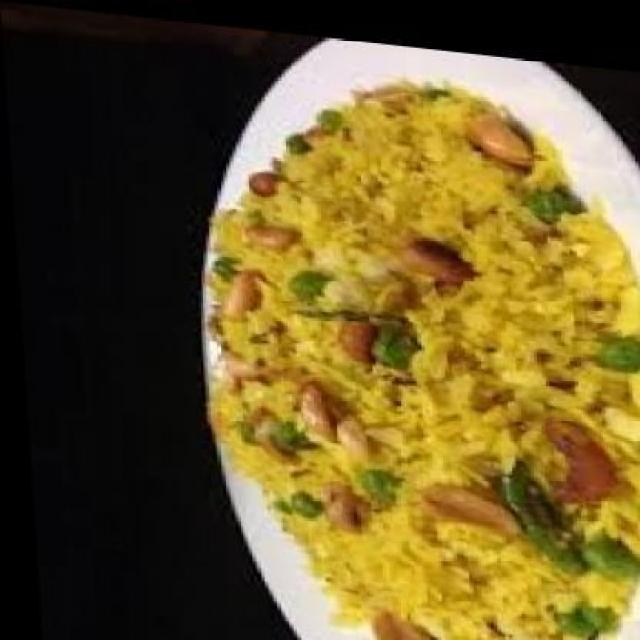poha: (183, 51, 640, 640)
